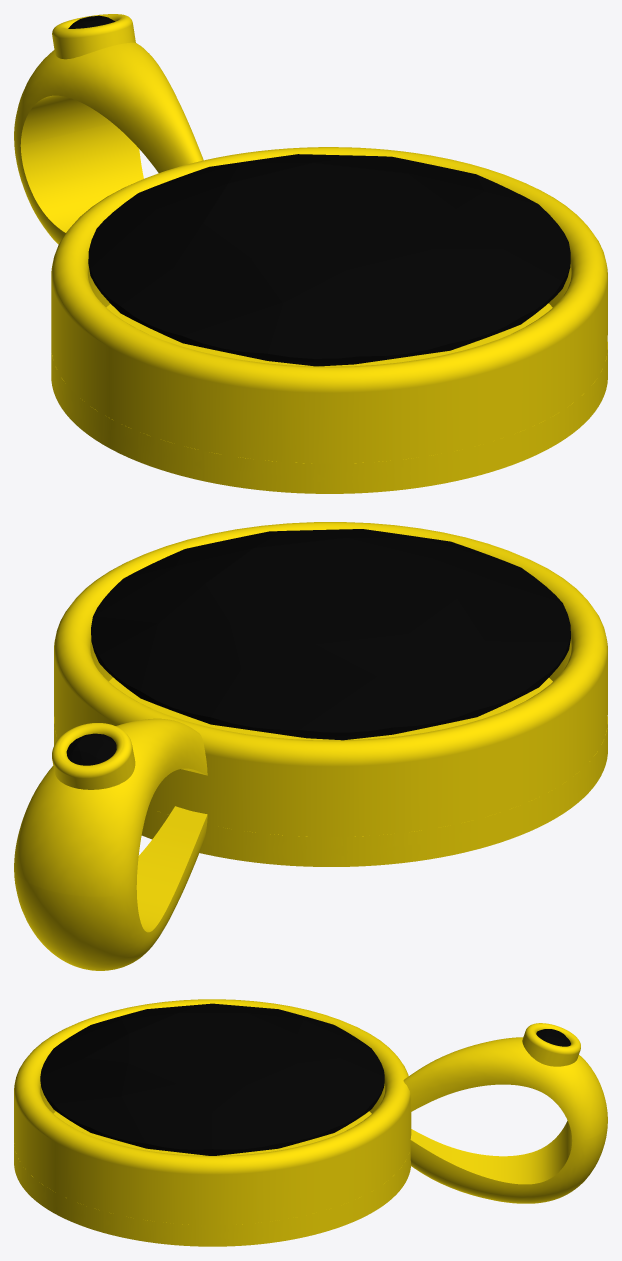
File: pendant-circle.glb
The picture shows the model from 3 angles, top to bottom: view 1: azimuth 30°, elevation 25°; view 2: azimuth 150°, elevation 25°; view 3: azimuth 270°, elevation 25°; orthographic projection. The views are drawn at different scales.
Size of the model in its own units: 0.015 by 0.00711 by 0.0224.
